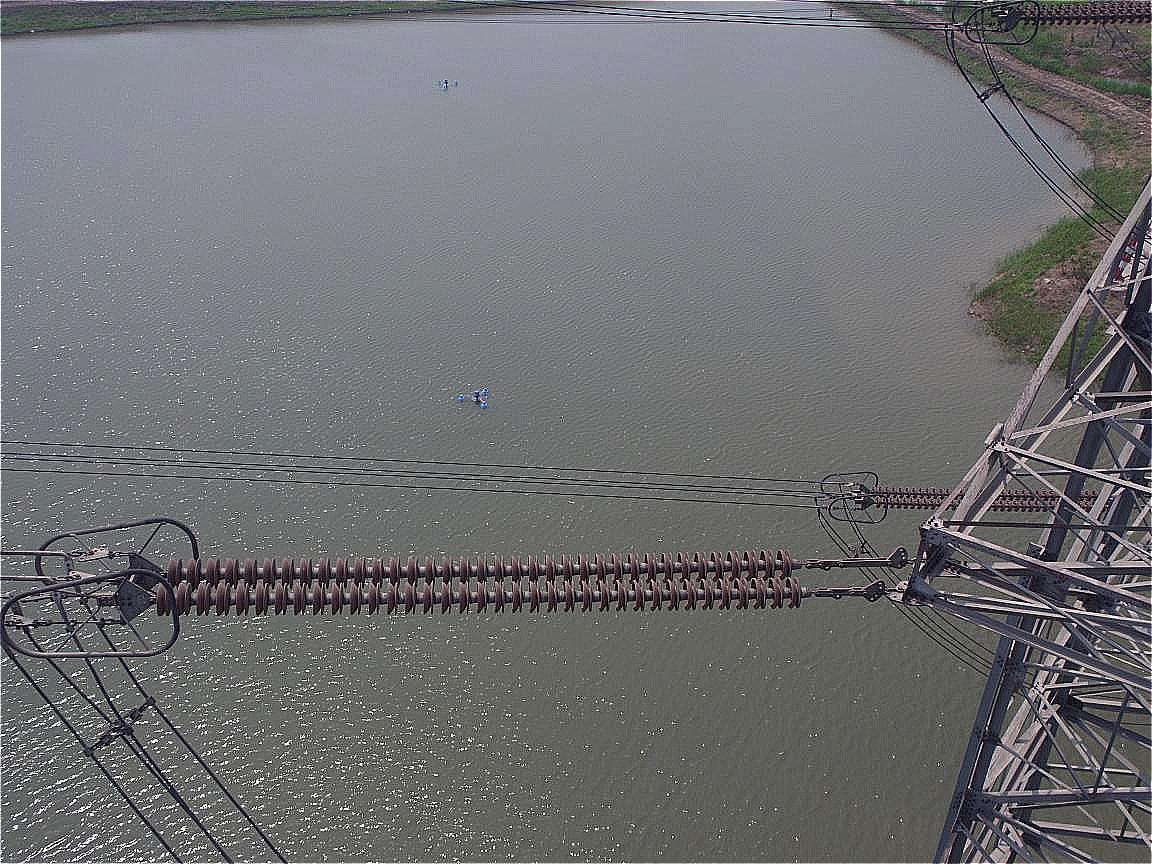insultor2: (132, 539, 813, 628)
